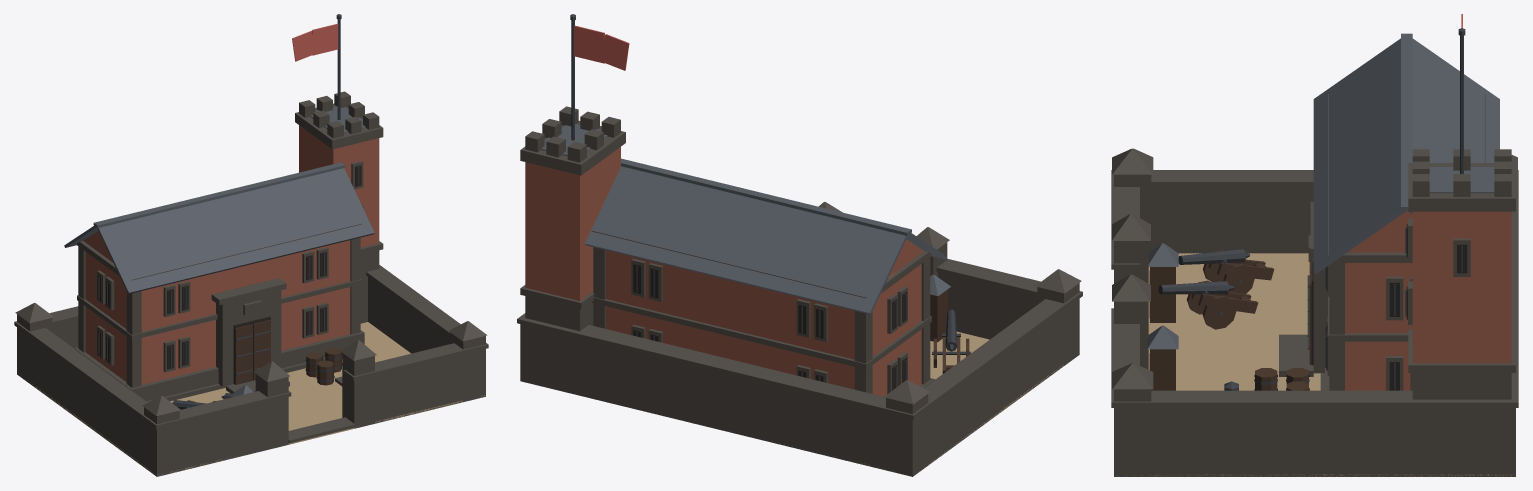
File: era2-armory-BMTHBM7h.glb
The picture shows the model from 3 angles, left to right: view 1: azimuth 30°, elevation 25°; view 2: azimuth 150°, elevation 25°; view 3: azimuth 270°, elevation 25°; orthographic projection. The views are drawn at different scales.
Parts seen in each view (by area): view 1: Armory_Stonework, Armory_Roof, Armory_Magazine, Armory_Yard, Armory_Timber, Armory_Openings, Armory_Ironwork, Armory_Flag; view 2: Armory_Stonework, Armory_Magazine, Armory_Roof, Armory_Flag, Armory_Openings, Armory_Ironwork, Armory_Timber, Armory_Yard; view 3: Armory_Stonework, Armory_Roof, Armory_Magazine, Armory_Yard, Armory_Timber, Armory_Ironwork, Armory_Openings.
Part boxes in pixels (x1=…): Armory_Stonework: x1=14, y1=91, x2=488, y2=476; Armory_Roof: x1=64, y1=106, x2=374, y2=396; Armory_Magazine: x1=83, y1=125, x2=379, y2=384; Armory_Yard: x1=17, y1=322, x2=485, y2=475; Armory_Timber: x1=187, y1=320, x2=341, y2=402; Armory_Openings: x1=97, y1=165, x2=361, y2=384; Armory_Ironwork: x1=98, y1=14, x2=359, y2=409; Armory_Flag: x1=292, y1=23, x2=338, y2=61; Armory_Stonework: x1=517, y1=106, x2=1082, y2=476; Armory_Magazine: x1=525, y1=147, x2=923, y2=396; Armory_Roof: x1=541, y1=124, x2=950, y2=314; Armory_Flag: x1=574, y1=25, x2=629, y2=70; Armory_Openings: x1=633, y1=264, x2=907, y2=390; Armory_Ironwork: x1=570, y1=14, x2=970, y2=388; Armory_Timber: x1=930, y1=289, x2=969, y2=373; Armory_Yard: x1=527, y1=331, x2=1063, y2=473; Armory_Stonework: x1=1111, y1=94, x2=1518, y2=476; Armory_Roof: x1=1147, y1=33, x2=1499, y2=349; Armory_Magazine: x1=1345, y1=211, x2=1511, y2=390; Armory_Yard: x1=1117, y1=253, x2=1514, y2=476; Armory_Timber: x1=1150, y1=249, x2=1311, y2=390; Armory_Ironwork: x1=1158, y1=28, x2=1465, y2=390; Armory_Openings: x1=1149, y1=224, x2=1467, y2=390.
Bounding box in the file's own units: 19.2 × 16.58 × 14.2.
